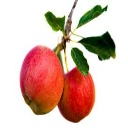apple: (56, 66, 95, 123)
